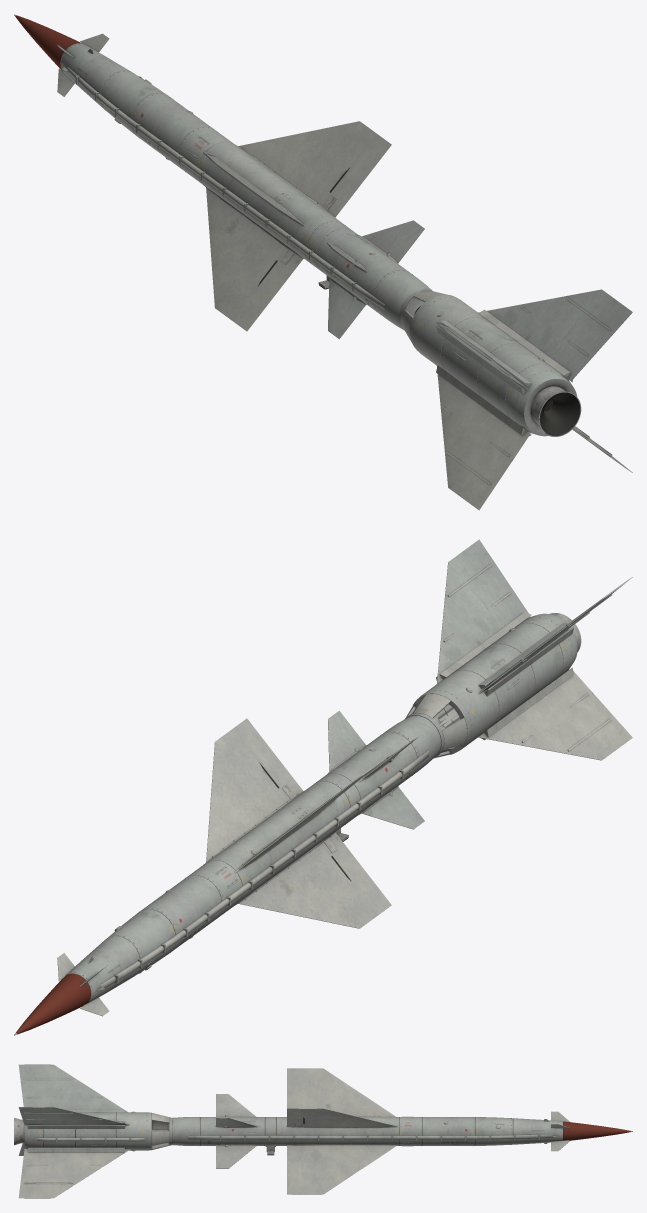
Rendered from msl_s75.glb.
3 renders of one model, top to bottom at view 1: azimuth 30°, elevation 25°; view 2: azimuth 150°, elevation 25°; view 3: azimuth 270°, elevation 25°, orthographic. The views are drawn at different scales.
Parts seen in each view (by area): view 1: missile|M7_paint, booster|M7_paint; view 2: missile|M7_paint, booster|M7_paint; view 3: missile|M7_paint, booster|M7_paint.
Boxes of the visible parts, box(x1,y1,x2,y2) form: missile|M7_paint: box(14, 14, 432, 339); booster|M7_paint: box(399, 289, 632, 510); missile|M7_paint: box(14, 710, 441, 1035); booster|M7_paint: box(405, 539, 632, 760); missile|M7_paint: box(168, 1068, 632, 1194); booster|M7_paint: box(14, 1064, 172, 1198).
Bounding box in the file's own units: 1.74 × 1.74 × 10.61.
Materials: 2 (2 with a texture image).
